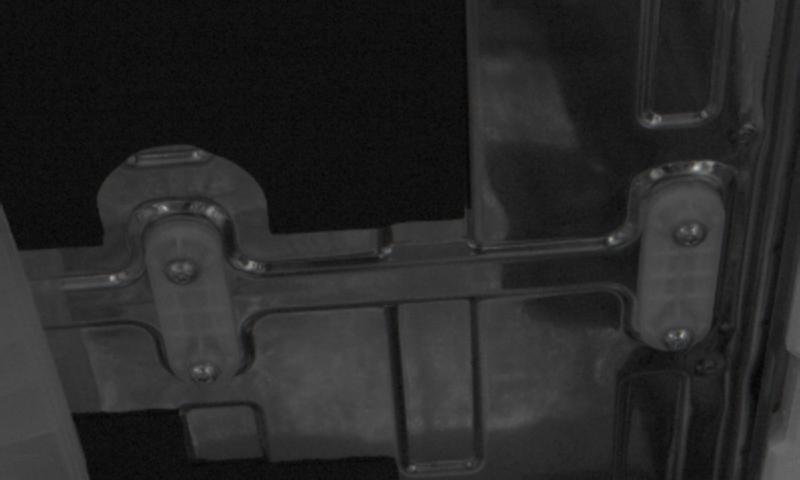vida-ok: (162, 249, 208, 293), (666, 213, 713, 256), (184, 352, 229, 392), (657, 319, 703, 358)
